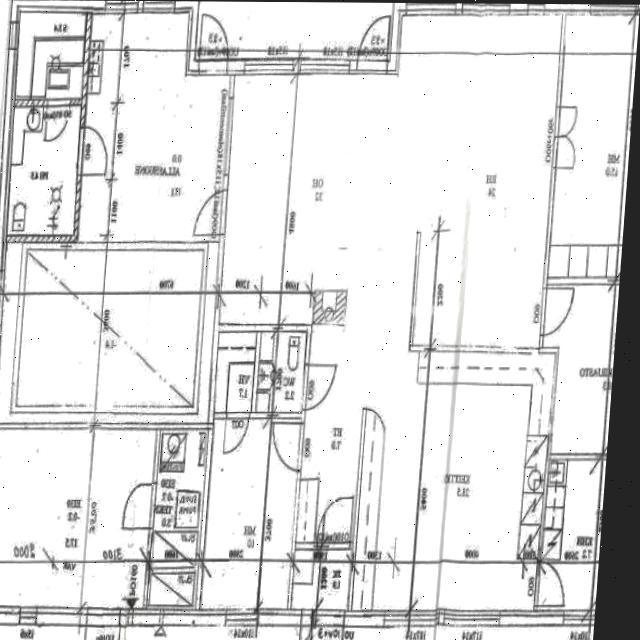room: (78, 8, 234, 253), (0, 430, 157, 608), (547, 10, 639, 283), (201, 412, 301, 615), (535, 280, 619, 458), (147, 427, 208, 612), (537, 456, 606, 614), (8, 103, 80, 239), (215, 333, 306, 413), (15, 9, 86, 103), (291, 547, 351, 613)
